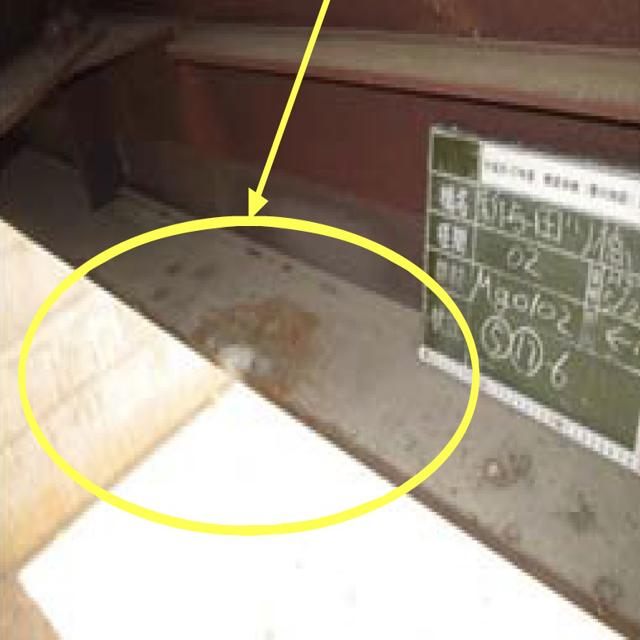freelime: (182, 283, 324, 423)
